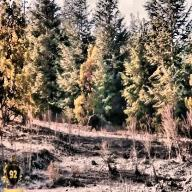boar: (86, 109, 109, 130)
